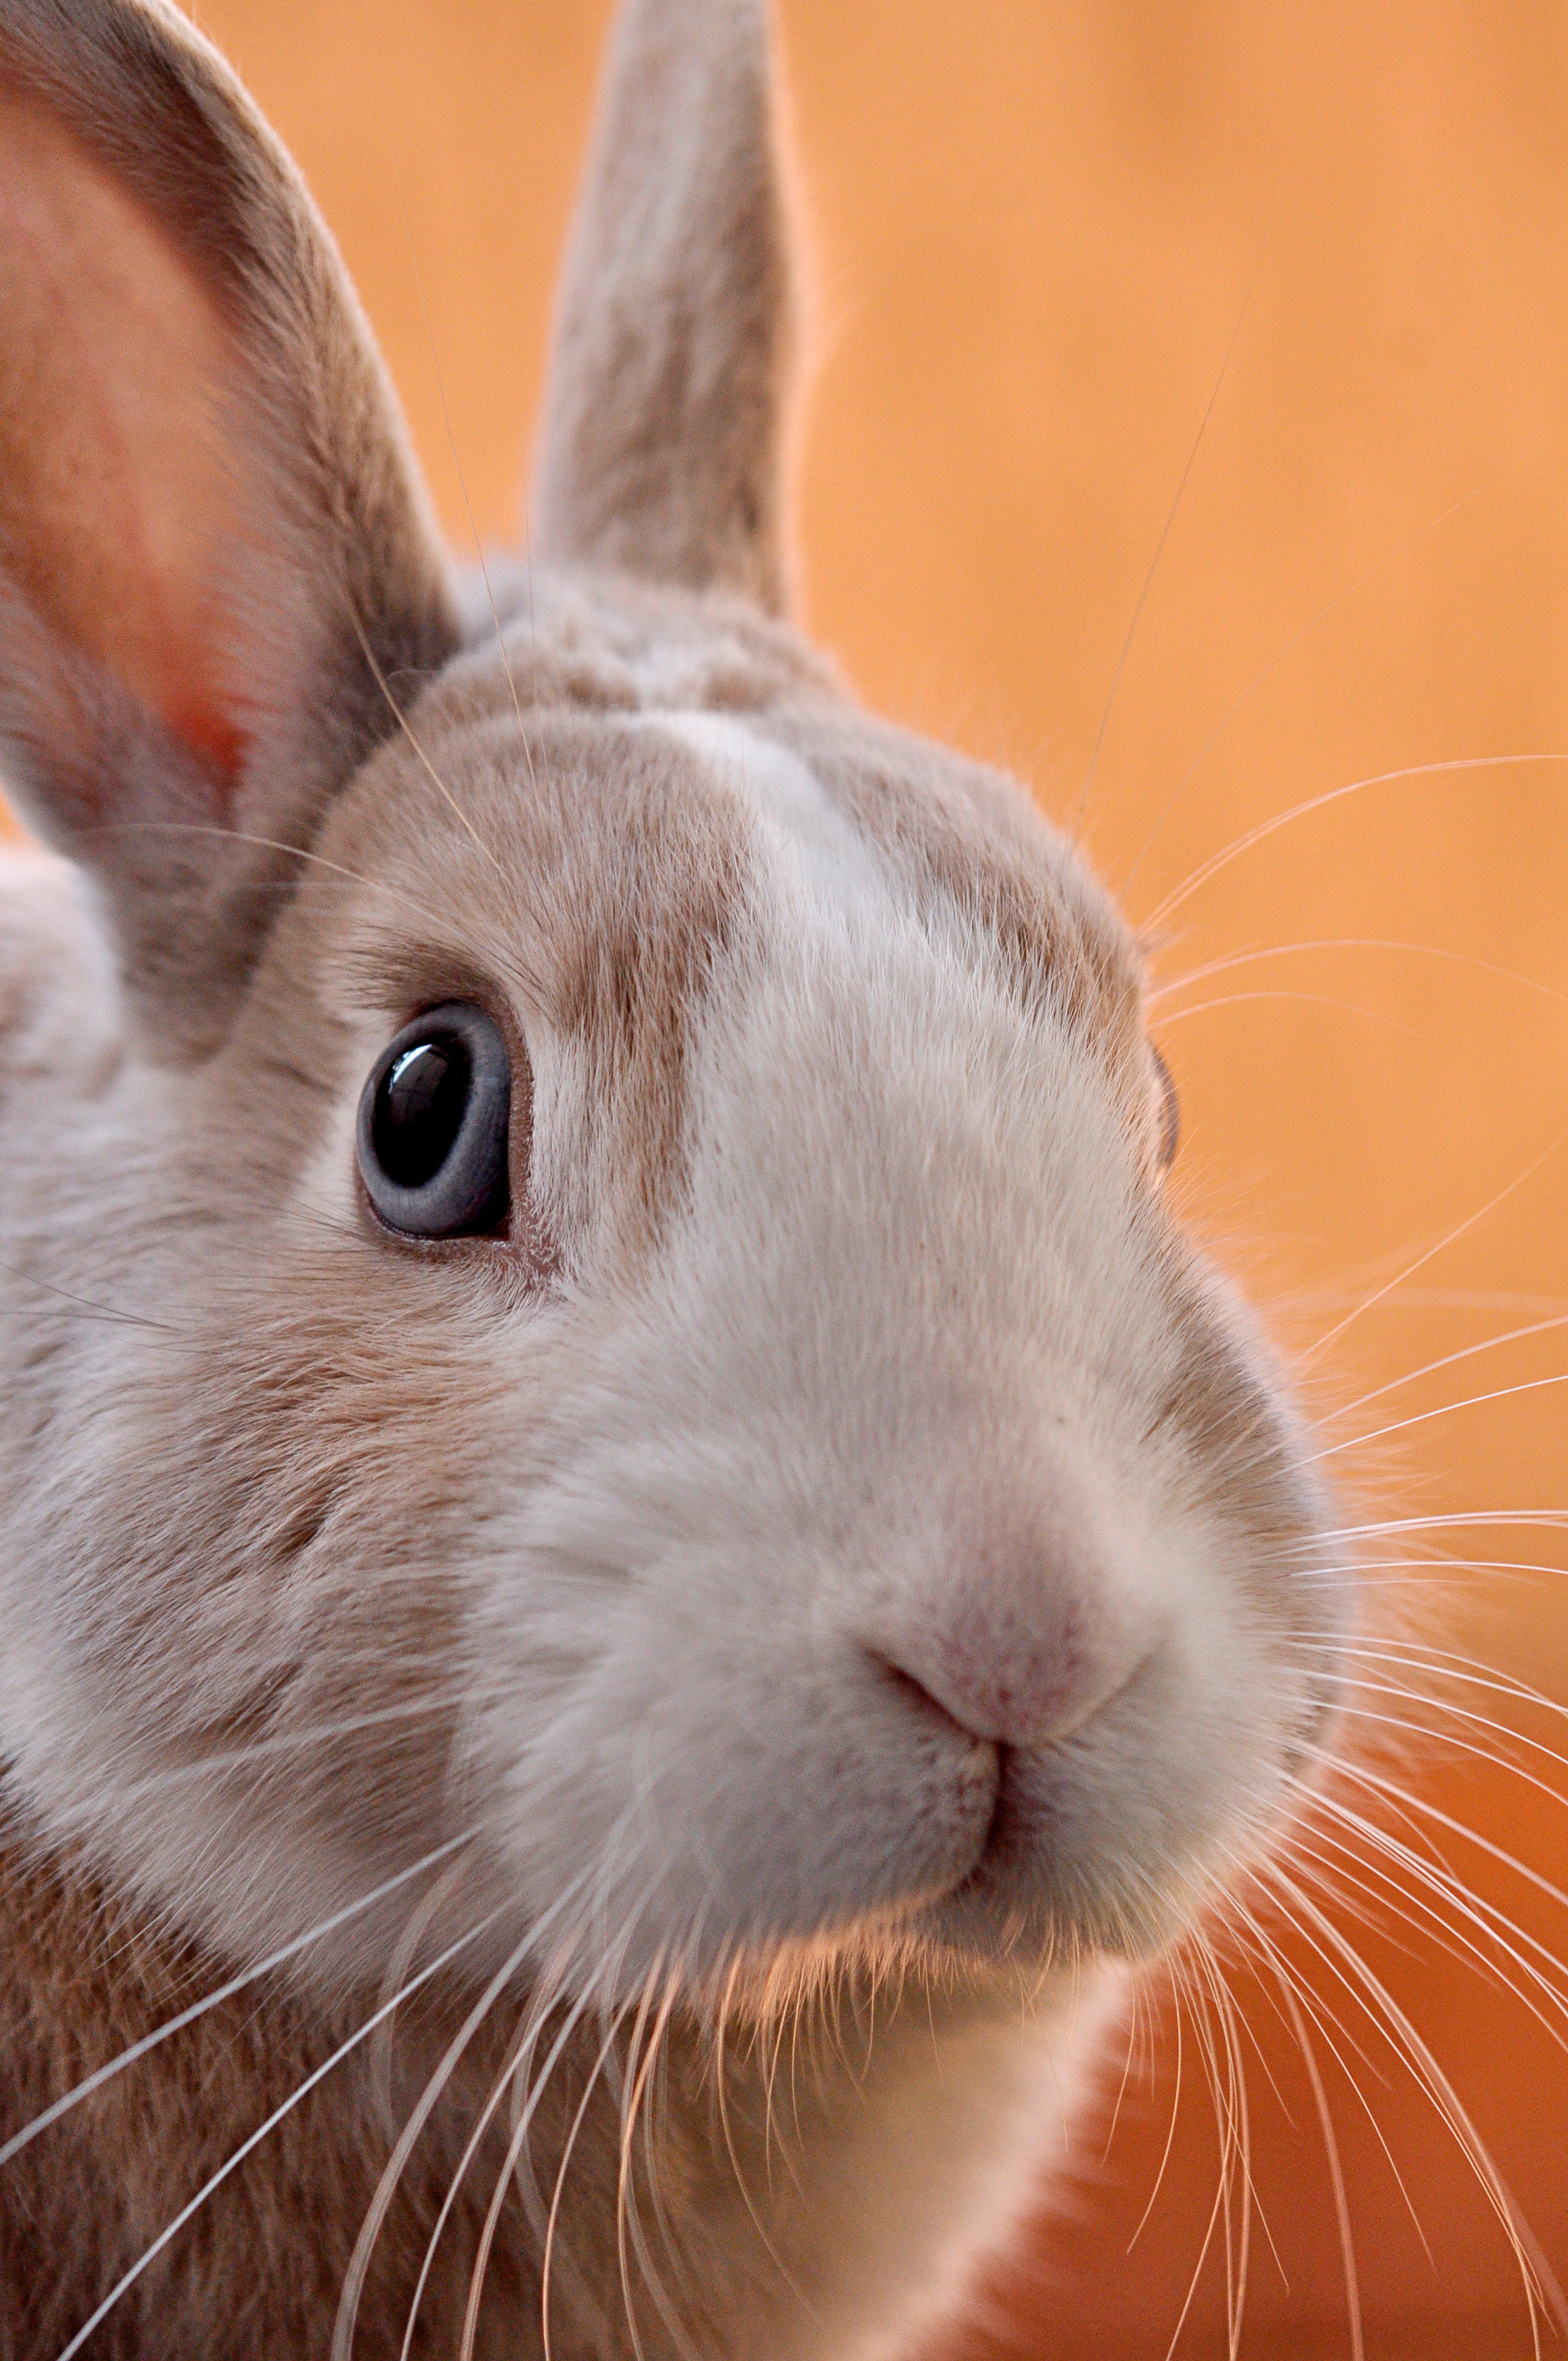bunny: (0, 11, 1426, 2361)
